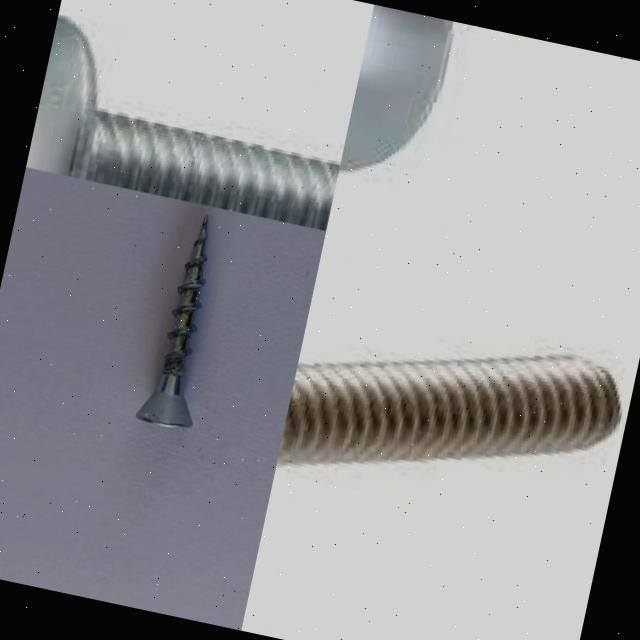Screw: (25, 16, 340, 231), (275, 350, 622, 468), (135, 214, 208, 427)
